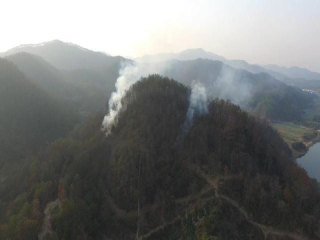smoke: (98, 55, 167, 142), (186, 71, 217, 144)
